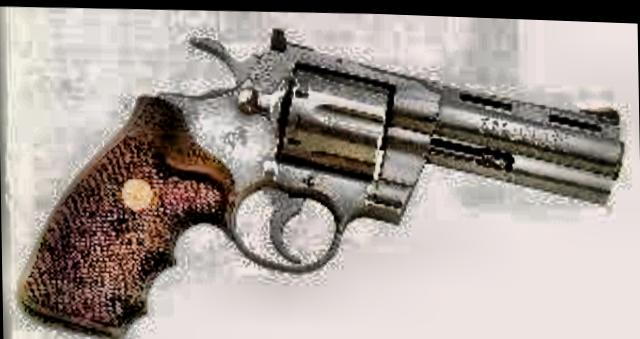pistol: (4, 12, 624, 339)
